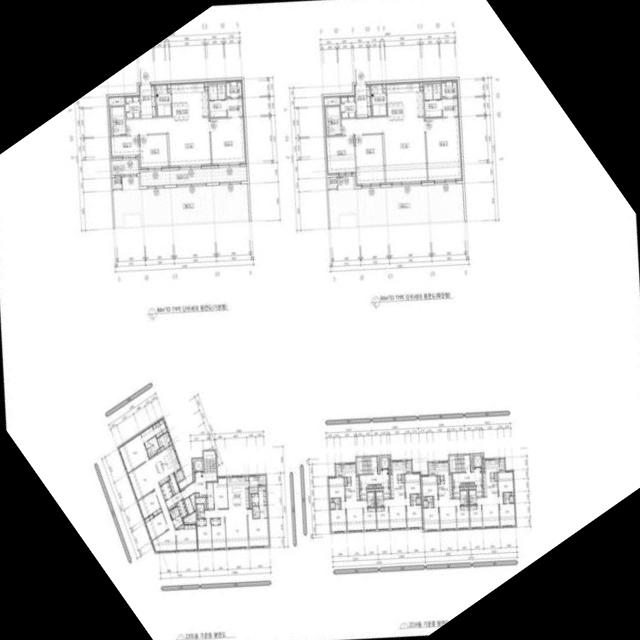background: (0, 0, 640, 640)
space_balconi: (139, 166, 246, 186), (110, 159, 138, 174), (173, 469, 183, 482), (257, 475, 265, 485)
space_bedroom: (424, 117, 462, 182), (209, 117, 246, 165), (354, 134, 383, 185), (117, 433, 148, 472), (324, 135, 355, 174), (138, 134, 167, 169), (246, 508, 268, 547), (143, 511, 167, 540), (137, 490, 161, 519), (109, 135, 138, 157), (175, 523, 196, 550), (196, 518, 211, 549), (210, 517, 225, 548), (212, 477, 227, 508), (327, 476, 344, 500), (420, 475, 437, 499), (404, 472, 420, 497), (497, 470, 513, 495), (405, 505, 422, 528), (422, 507, 439, 530), (498, 503, 515, 526), (329, 509, 346, 532), (468, 505, 482, 528), (375, 507, 389, 529), (362, 507, 375, 530), (455, 506, 468, 528), (196, 518, 205, 525), (210, 518, 219, 524)
space_dressroom: (151, 418, 167, 438), (441, 98, 458, 116), (440, 79, 457, 97), (226, 98, 243, 116), (225, 79, 242, 97), (257, 486, 265, 504), (251, 493, 258, 505)
space_elevator: (379, 455, 390, 469), (191, 458, 202, 471), (472, 454, 483, 467)
space_elevator_hall: (180, 439, 216, 499), (359, 456, 388, 487), (452, 454, 481, 485)
space_front: (138, 84, 155, 118), (353, 84, 370, 116), (339, 95, 355, 117), (124, 95, 139, 118), (165, 491, 181, 509), (160, 481, 172, 500), (205, 482, 213, 509), (176, 499, 187, 518), (452, 487, 459, 498), (475, 485, 482, 496), (359, 488, 366, 499), (382, 487, 389, 498)
space_kitchen: (170, 81, 207, 119), (385, 81, 422, 119), (149, 444, 180, 485), (226, 476, 248, 509), (433, 461, 451, 499), (340, 463, 358, 501), (388, 460, 405, 498), (481, 459, 498, 497)
space_living_room: (340, 116, 426, 184), (127, 459, 175, 552), (125, 117, 210, 167), (203, 508, 247, 548), (476, 496, 502, 527), (433, 498, 459, 529), (340, 500, 366, 531), (383, 498, 409, 529)
space_multipurpose_space: (155, 83, 171, 116), (370, 83, 386, 115)
space_other: (167, 473, 179, 495), (156, 431, 170, 448), (183, 496, 193, 514), (248, 475, 257, 493), (322, 96, 339, 105), (107, 96, 123, 105), (183, 511, 195, 522), (195, 497, 205, 508), (189, 493, 194, 510), (156, 446, 163, 452), (469, 454, 471, 471), (376, 456, 378, 472), (176, 524, 183, 528), (249, 493, 251, 507), (166, 83, 169, 92), (204, 81, 207, 90), (467, 486, 475, 489), (374, 487, 382, 490), (382, 83, 385, 91), (419, 81, 422, 89), (459, 486, 466, 489), (366, 488, 373, 491), (494, 472, 496, 480), (192, 473, 194, 481), (344, 477, 346, 485), (401, 474, 403, 482), (437, 475, 439, 483), (244, 475, 247, 480), (194, 493, 198, 496), (168, 441, 171, 445), (367, 484, 371, 487), (421, 496, 424, 499), (328, 498, 331, 501), (372, 484, 376, 486), (469, 482, 473, 484), (376, 484, 380, 486), (460, 483, 464, 485), (465, 483, 469, 485), (511, 492, 513, 495), (418, 493, 420, 496), (481, 468, 483, 470), (388, 470, 390, 472)
space_outdoor_room: (111, 177, 121, 188), (327, 177, 336, 188), (498, 458, 504, 470), (405, 460, 411, 472), (335, 463, 340, 476), (428, 462, 433, 474)
space_staircase: (448, 455, 464, 472), (355, 456, 371, 473), (208, 450, 215, 472)
space_toilet: (325, 106, 340, 135), (110, 106, 125, 135), (208, 99, 226, 117), (143, 436, 158, 457), (424, 99, 441, 117), (139, 425, 154, 442), (216, 83, 225, 99), (423, 83, 432, 99), (431, 83, 440, 99), (172, 515, 182, 528), (208, 83, 216, 99), (459, 490, 467, 504), (366, 492, 374, 506), (468, 489, 475, 504), (196, 503, 203, 518), (375, 491, 382, 505), (258, 505, 266, 517), (425, 496, 433, 507), (502, 492, 510, 503), (332, 498, 340, 508), (409, 494, 417, 504), (172, 506, 179, 517), (169, 508, 175, 519), (251, 506, 258, 512), (252, 512, 259, 517), (423, 500, 427, 507), (415, 497, 419, 504), (508, 496, 512, 502), (330, 502, 334, 508)
